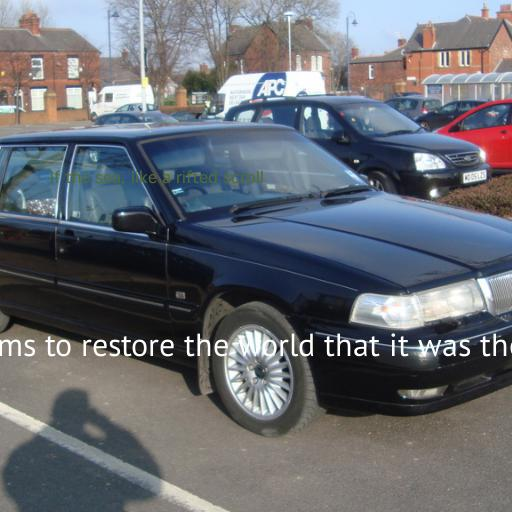Geneva: (50, 170, 264, 186)
PT Sans: (0, 333, 512, 357)
